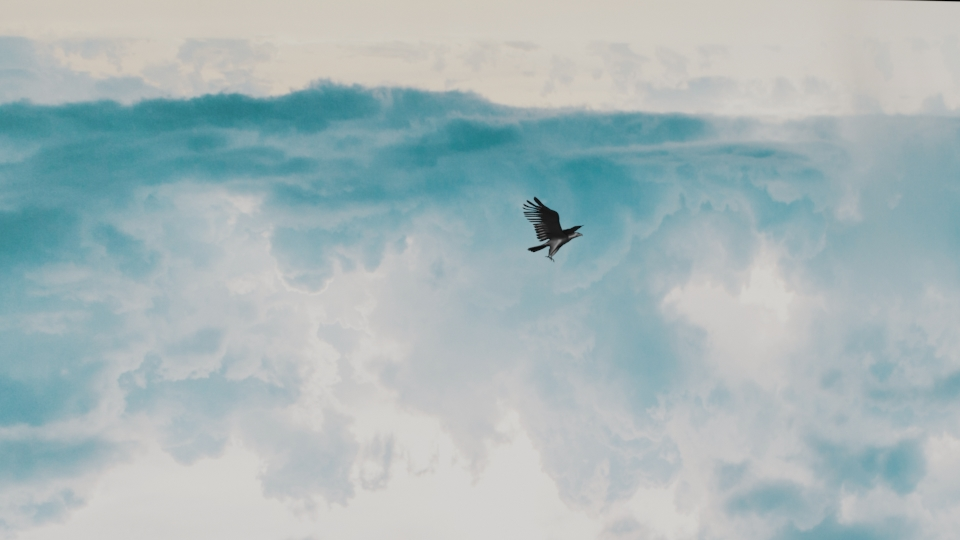bird: (515, 196, 584, 261)
